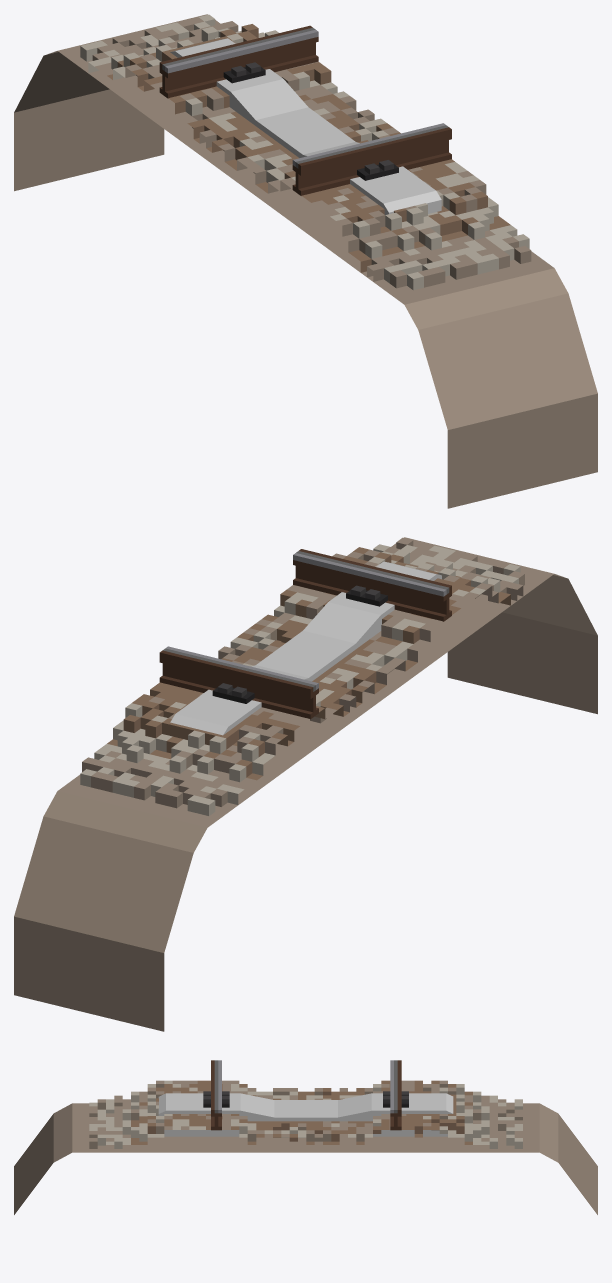
The picture shows the model from 3 angles, top to bottom: view 1: azimuth 30°, elevation 25°; view 2: azimuth 150°, elevation 25°; view 3: azimuth 270°, elevation 25°; orthographic projection. The views are drawn at different scales.
Visible parts, largest first — view 1: rail_full_ballast, rail_left_rail, rail_right_rail.001; view 2: rail_full_ballast, rail_right_rail.001, rail_left_rail; view 3: rail_full_ballast, rail_right_rail.001, rail_left_rail.
Part boxes in pixels (box(x1,y1,x2,y2)): rail_full_ballast: box(14, 14, 597, 508); rail_left_rail: box(292, 123, 451, 195); rail_right_rail.001: box(159, 25, 318, 98); rail_full_ballast: box(14, 537, 597, 1031); rail_right_rail.001: box(159, 646, 318, 719); rail_left_rail: box(293, 549, 451, 621); rail_full_ballast: box(14, 1080, 597, 1214); rail_right_rail.001: box(390, 1060, 401, 1130); rail_left_rail: box(211, 1060, 221, 1130).
Size of the model in its own units: 1 by 1.5 by 5.
Materials: 9 (9 with a texture image).
